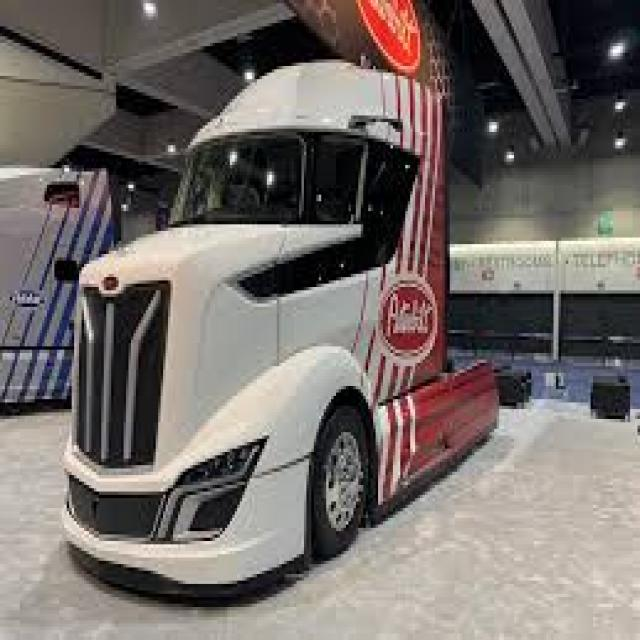truck: (42, 25, 542, 597)
